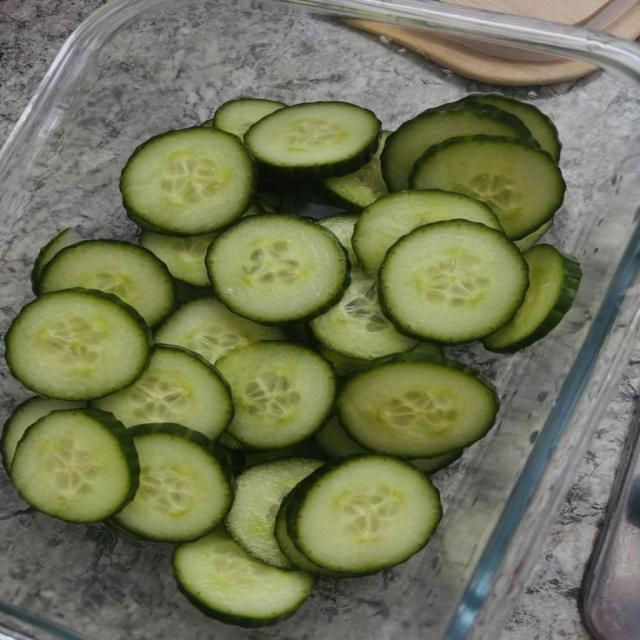cucumber sliced: (287, 455, 441, 574), (380, 220, 528, 343), (337, 354, 498, 459), (6, 289, 151, 400), (410, 136, 565, 239), (207, 214, 348, 324), (120, 127, 255, 235), (173, 527, 315, 628), (12, 410, 139, 522), (113, 424, 233, 542), (94, 345, 233, 440), (381, 104, 531, 191), (217, 342, 336, 449), (353, 190, 503, 273), (38, 240, 175, 326), (225, 458, 322, 568), (483, 244, 581, 352), (245, 102, 380, 179), (310, 270, 417, 360), (155, 297, 285, 364), (274, 497, 358, 578), (463, 94, 561, 162), (0, 397, 85, 473), (320, 132, 390, 212), (140, 231, 213, 287), (31, 228, 82, 292), (212, 98, 286, 139), (318, 213, 359, 268), (315, 416, 370, 457), (315, 417, 371, 457), (246, 439, 326, 467), (318, 344, 370, 375), (318, 344, 369, 375), (409, 449, 463, 475), (514, 219, 553, 252)
